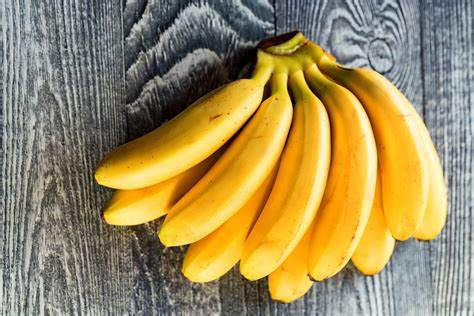Banana: (88, 21, 458, 303)
